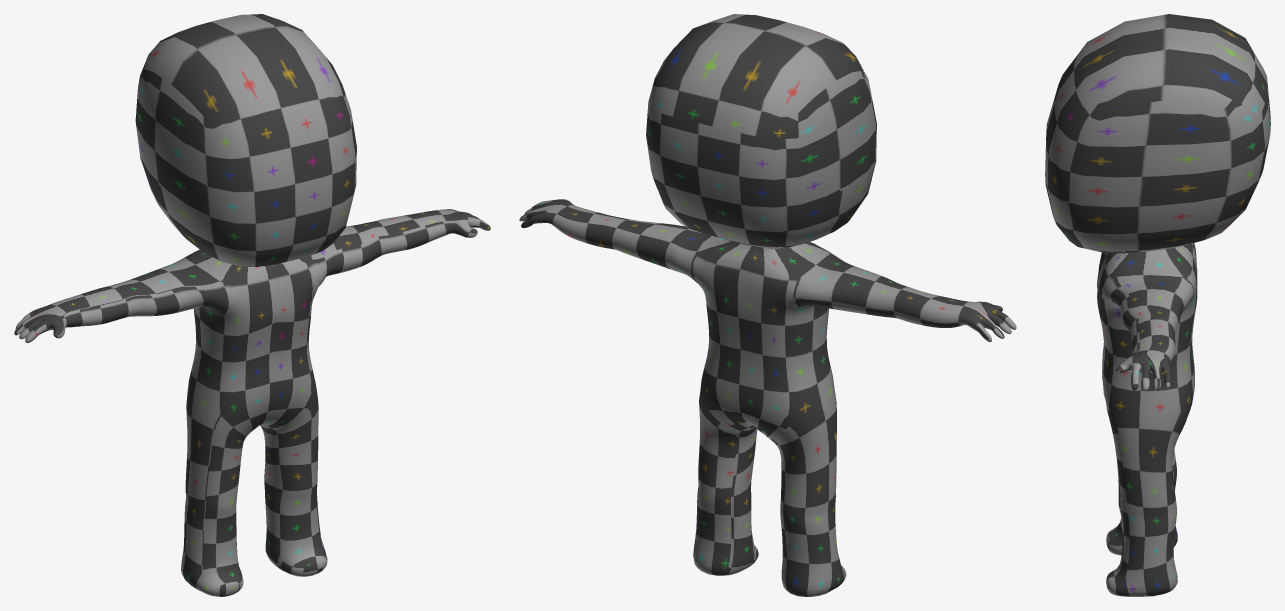
File: Chracter_002_Check.fbx
3 views of the same model, side by side, from view 1: azimuth 30°, elevation 25°; view 2: azimuth 150°, elevation 25°; view 3: azimuth 270°, elevation 25° (orthographic). The views are drawn at different scales.
Visible parts, largest first — view 1: Cube; view 2: Cube; view 3: Cube.
Part boxes in pixels (x1,y1,x2,y2): Cube: (14,14,490,596); Cube: (519,14,1016,596); Cube: (1045,14,1270,596).
Bounding box in the file's own units: 184 × 202 × 76.65.
